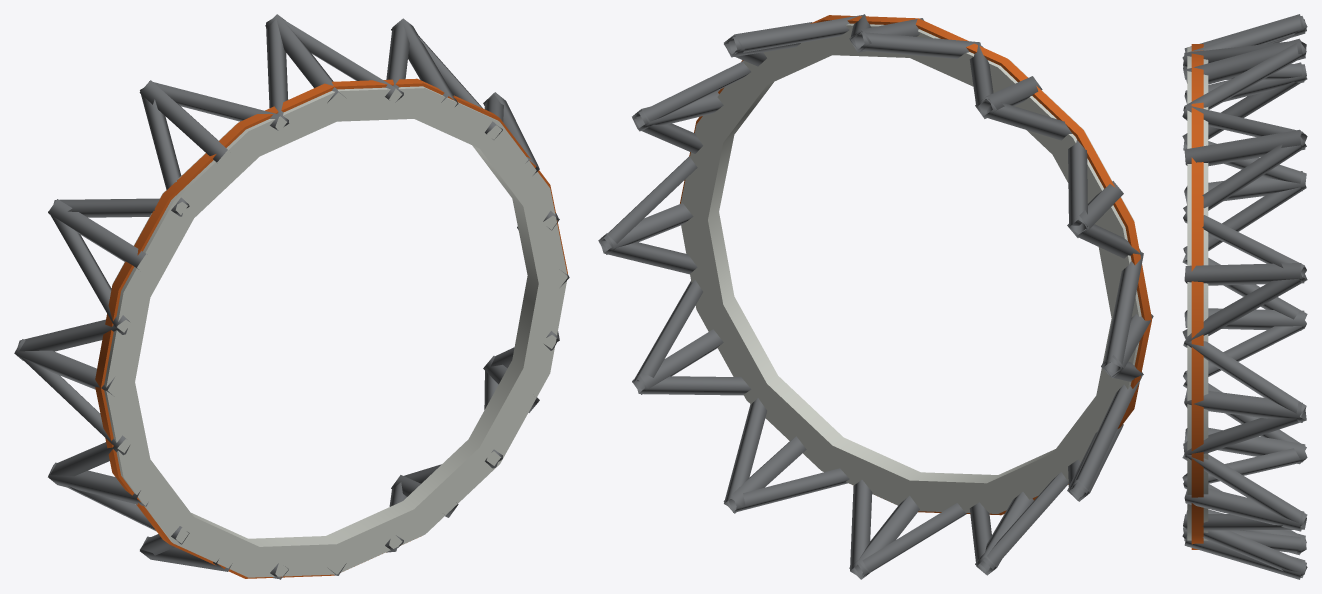
File: u73l_interstage.obj
The picture shows the model from 3 angles, left to right: view 1: azimuth 30°, elevation 25°; view 2: azimuth 150°, elevation 25°; view 3: azimuth 270°, elevation 25°; orthographic projection. The views are drawn at different scales.
Visible parts, largest first — view 1: u73l_interstage; view 2: u73l_interstage; view 3: u73l_interstage.
Part boxes in pixels (<box>): u73l_interstage: <box>14,14,569,579</box>; u73l_interstage: <box>598,14,1153,579</box>; u73l_interstage: <box>1182,14,1307,579</box>.
Size of the model in its own units: 3.8 by 3.8 by 0.8354.
